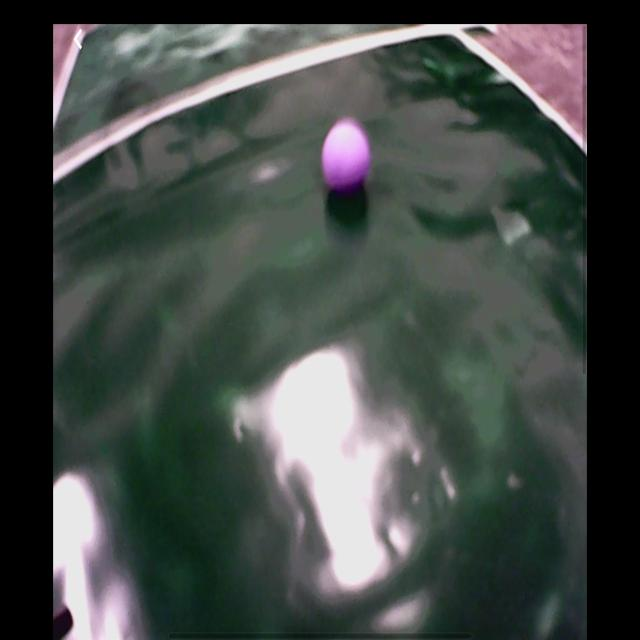ball: (321, 117, 372, 194)
